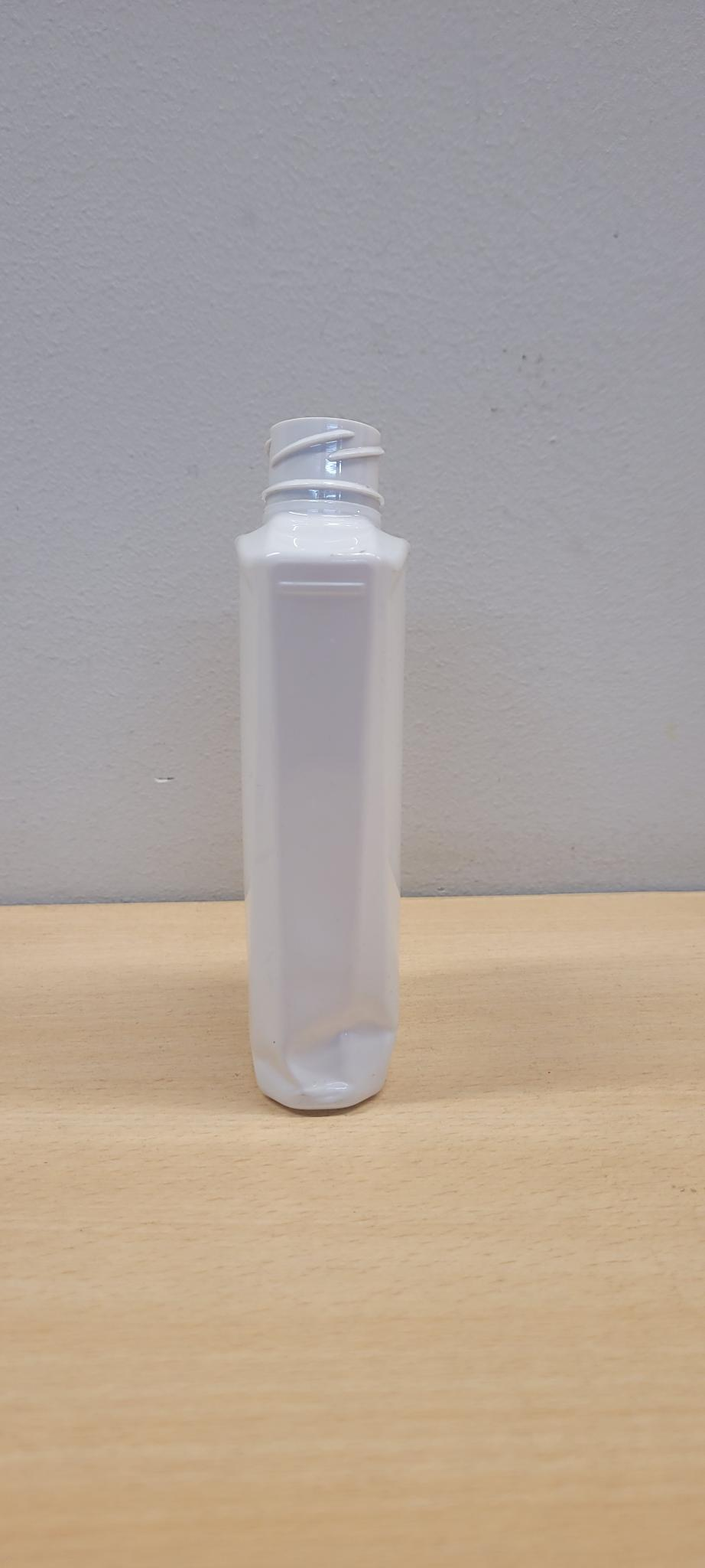bottle: (237, 416, 409, 1111)
